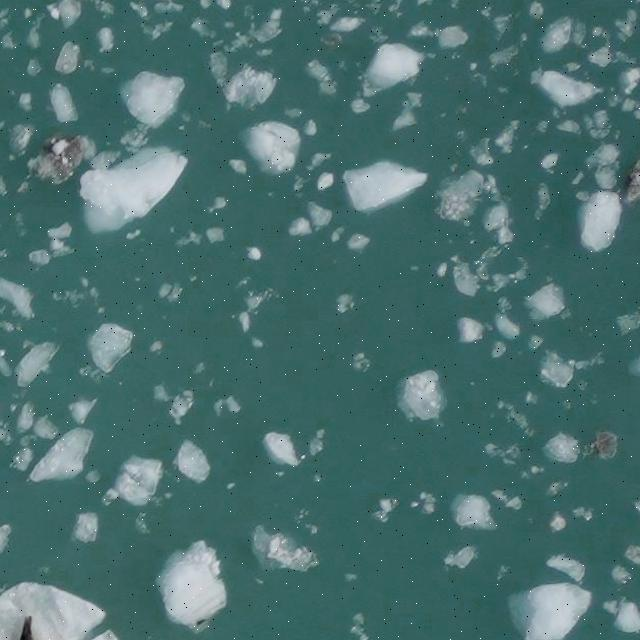seal: (21, 616, 35, 639)
